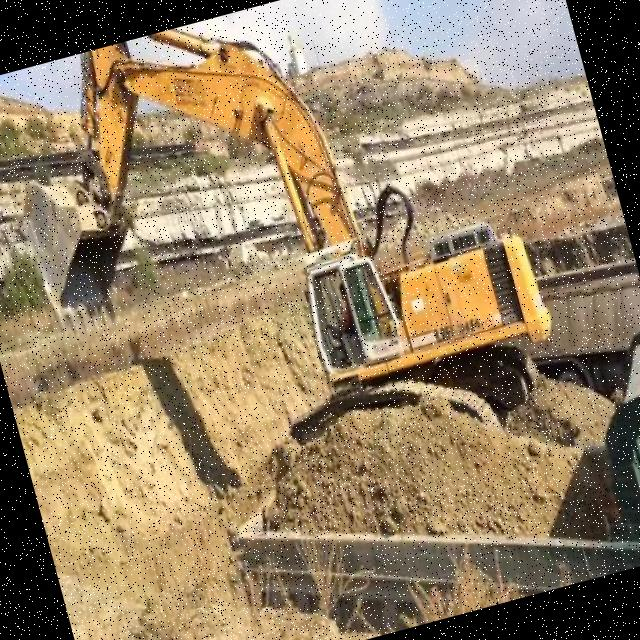Dump Truck: (217, 335, 640, 640)
Excavator: (0, 0, 569, 533)
